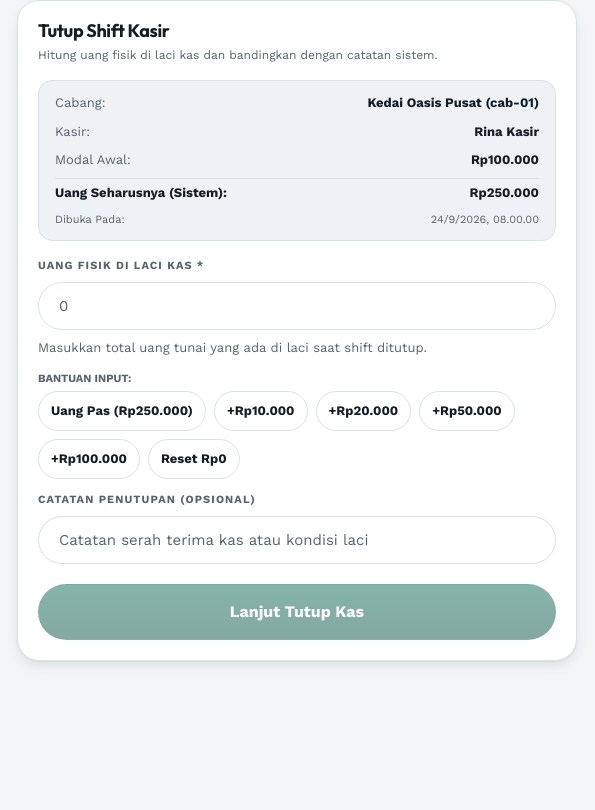
Komponen TutupKas (T7-02) › menampilkan status selisih kas lebih saat fisik > seharusnya
In the number field labelled "Uang Fisik di Laci Kas *": (297, 306) [38,282,556,330], type "260000"
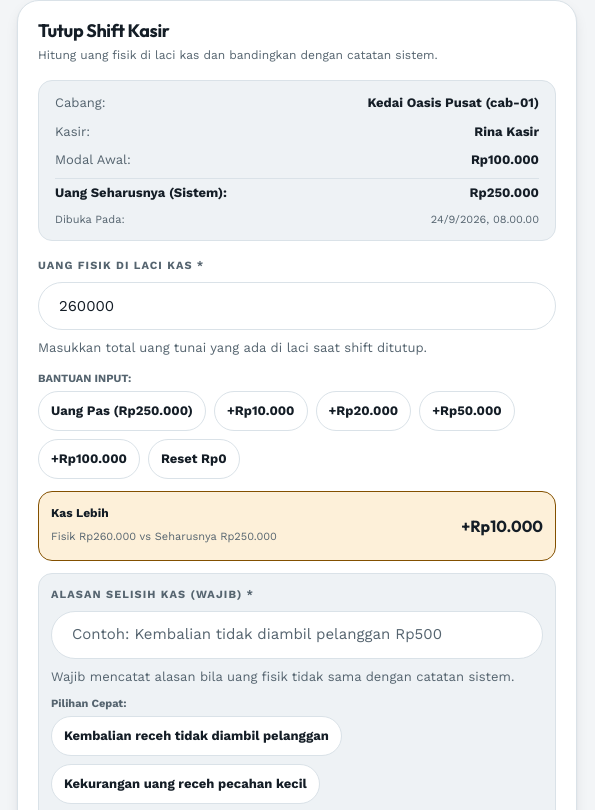
Expected: the text "Kas Lebih" is shown, [51,506,109,520]
Expected: the text with test id "nilai-selisih" reads "+Rp10.000", [461,516,543,536]
Expected: the field labelled "Alasan Selisih Kas (Wajib) *" is shown, [51,611,543,659]
